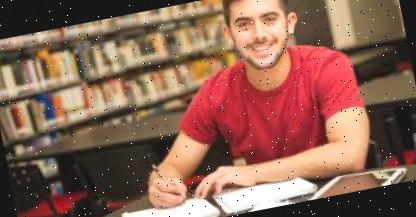person: (140, 0, 381, 211)
